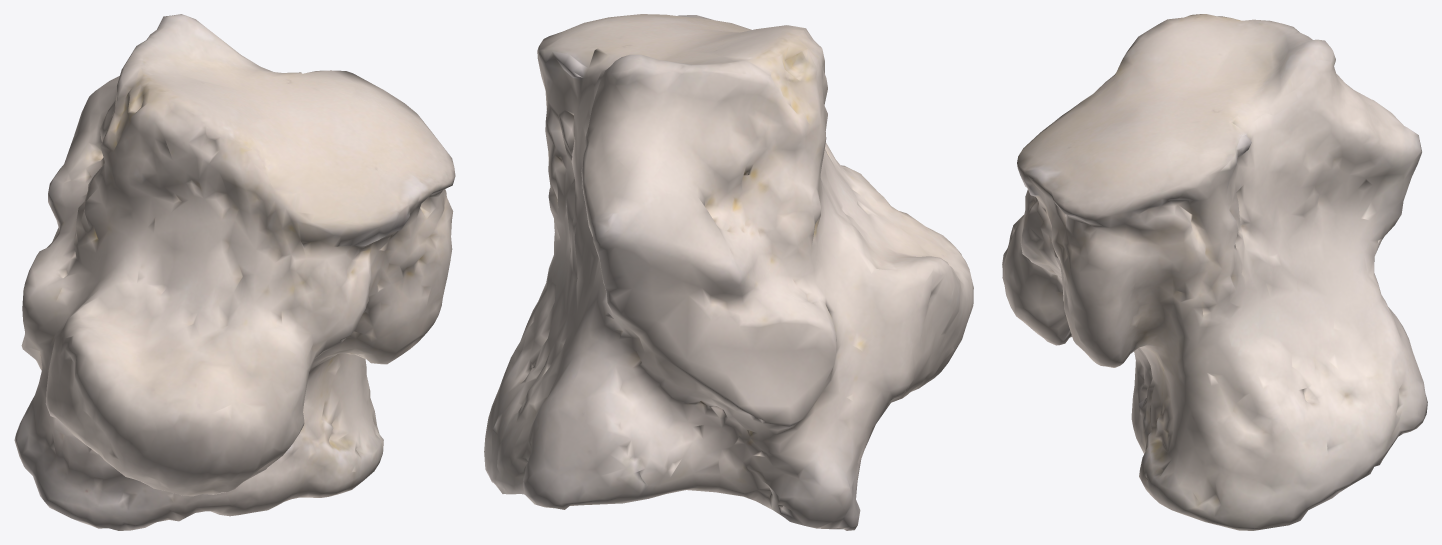
The picture shows the model from 3 angles, left to right: view 1: azimuth 30°, elevation 25°; view 2: azimuth 150°, elevation 25°; view 3: azimuth 270°, elevation 25°; orthographic projection. The views are drawn at different scales.
Visible parts, largest first — view 1: Os tarsale quartum_re_Hund.001; view 2: Os tarsale quartum_re_Hund.001; view 3: Os tarsale quartum_re_Hund.001.
Part boxes in pixels (x1,y1,x2,y2): Os tarsale quartum_re_Hund.001: (14,14,455,530); Os tarsale quartum_re_Hund.001: (484,14,973,530); Os tarsale quartum_re_Hund.001: (1002,14,1427,530).
Size of the model in its own units: 1569 by 1834 by 1678.
Materials: 1 (1 with a texture image).
